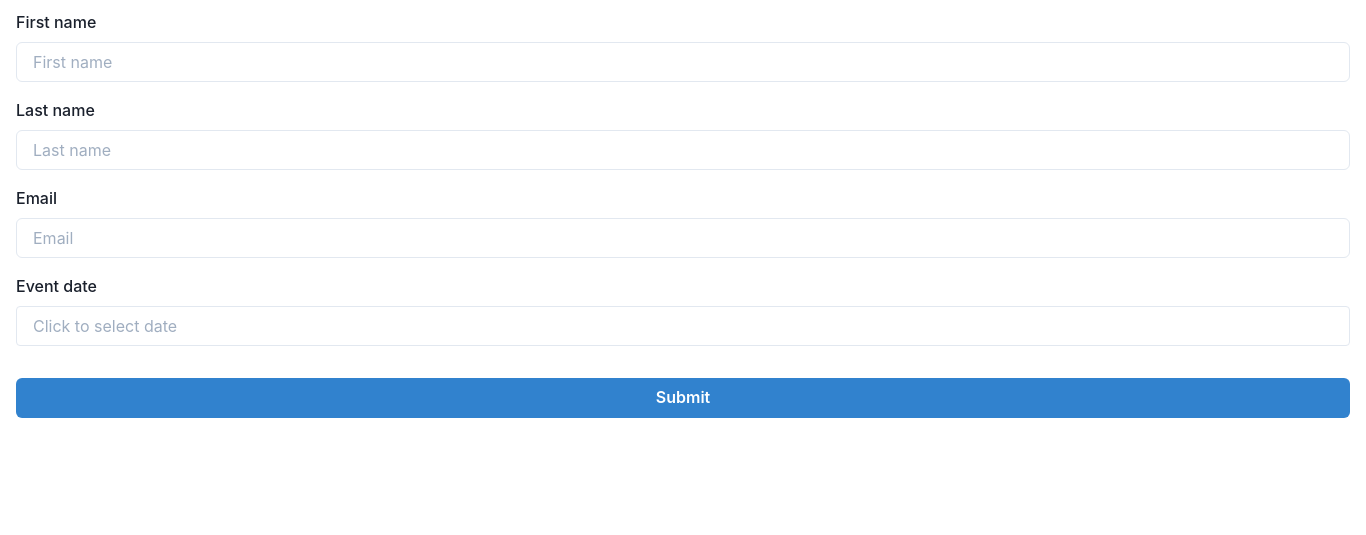
Test case: EventForm › should display error when inputting invalid email
Type "email@invalid" into the field labelled "Email". click: (683, 238)
box: [16,218,1350,258]
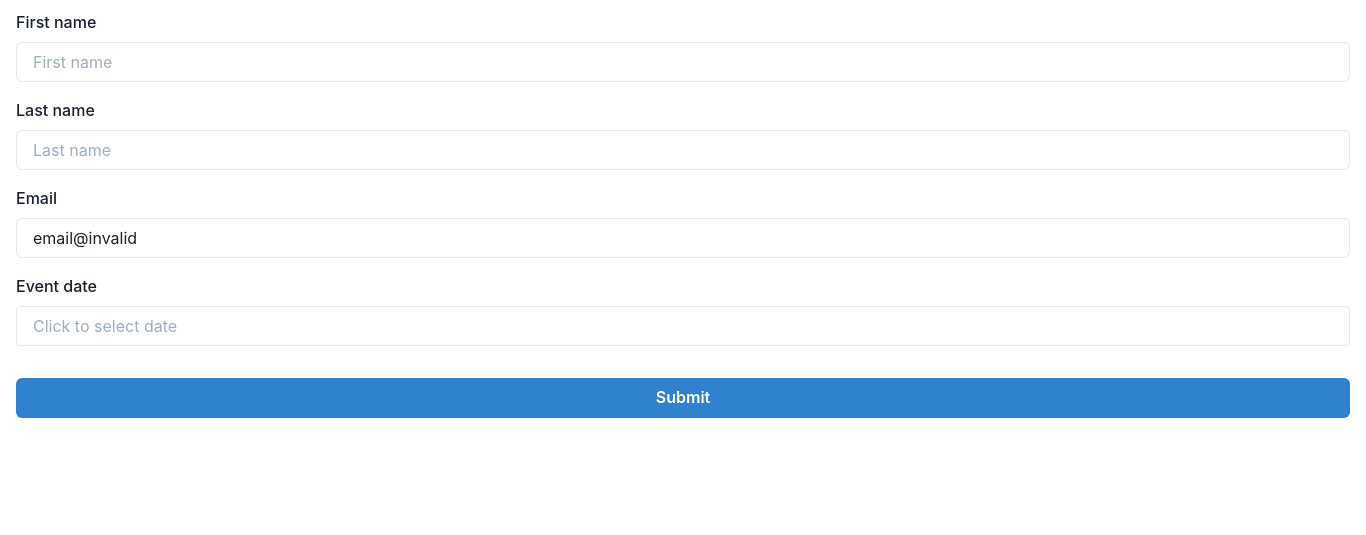
Submit the form from the button, box [16,378,1350,418]
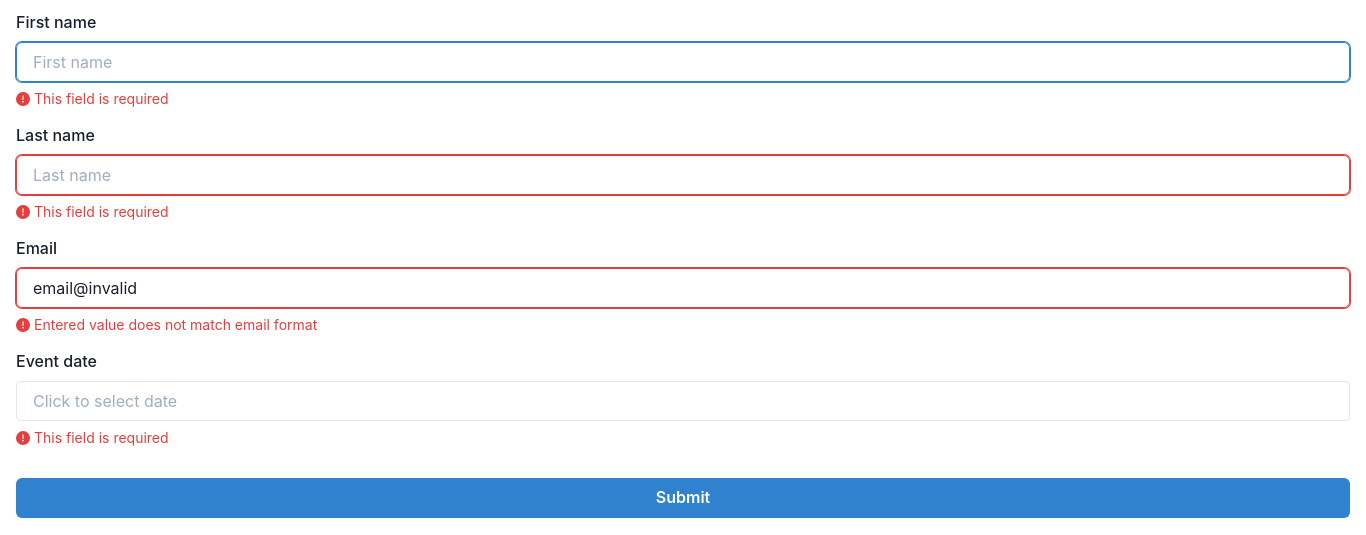
Expected: the text "Entered value does not match email format" is shown, [16,316,317,333]
